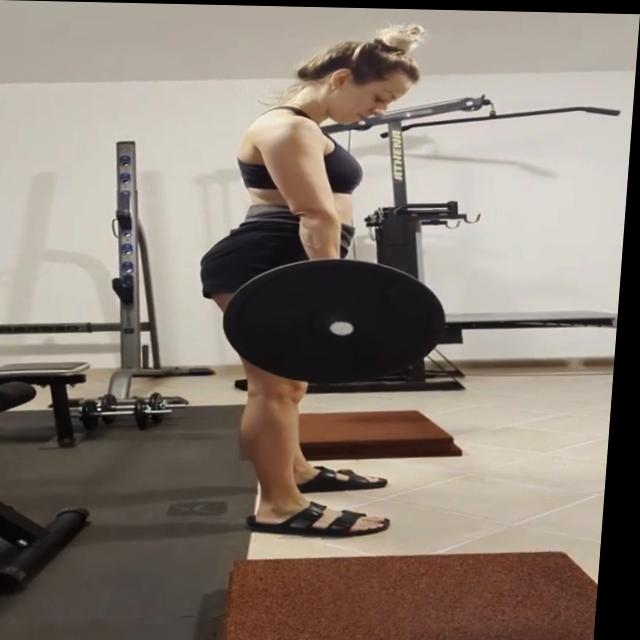barbell: (219, 250, 462, 387)
